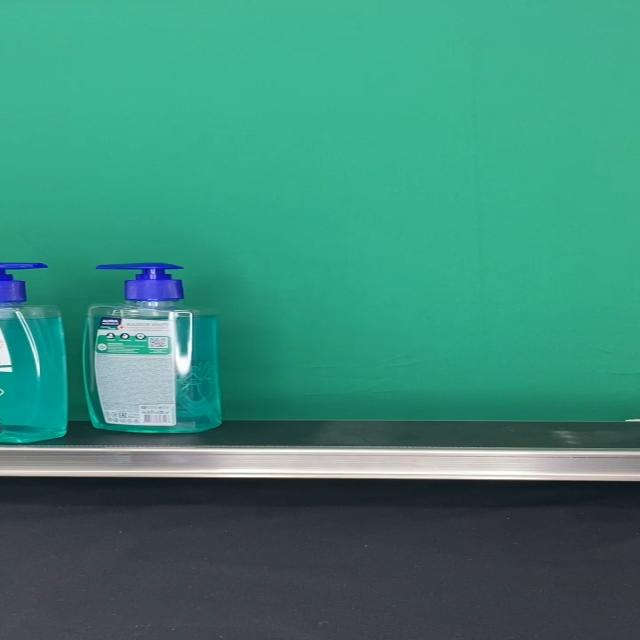Bottle: (83, 262, 223, 432)
Cap: (93, 263, 184, 303)
